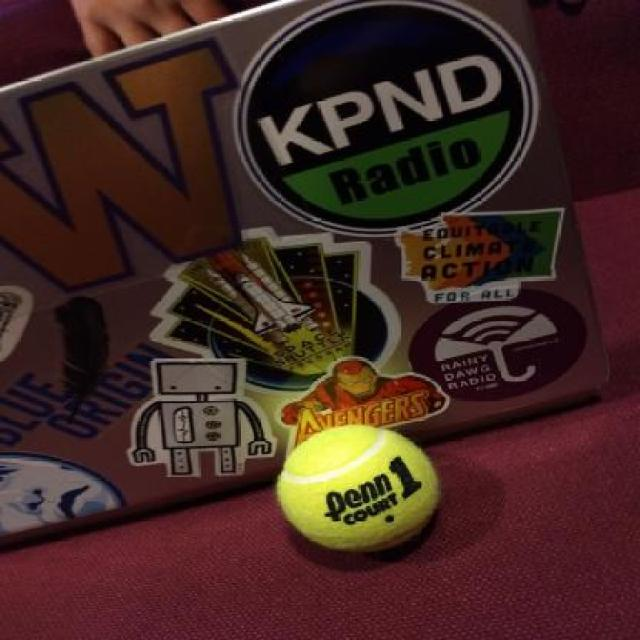Tennis_Ball: (278, 419, 440, 563)
